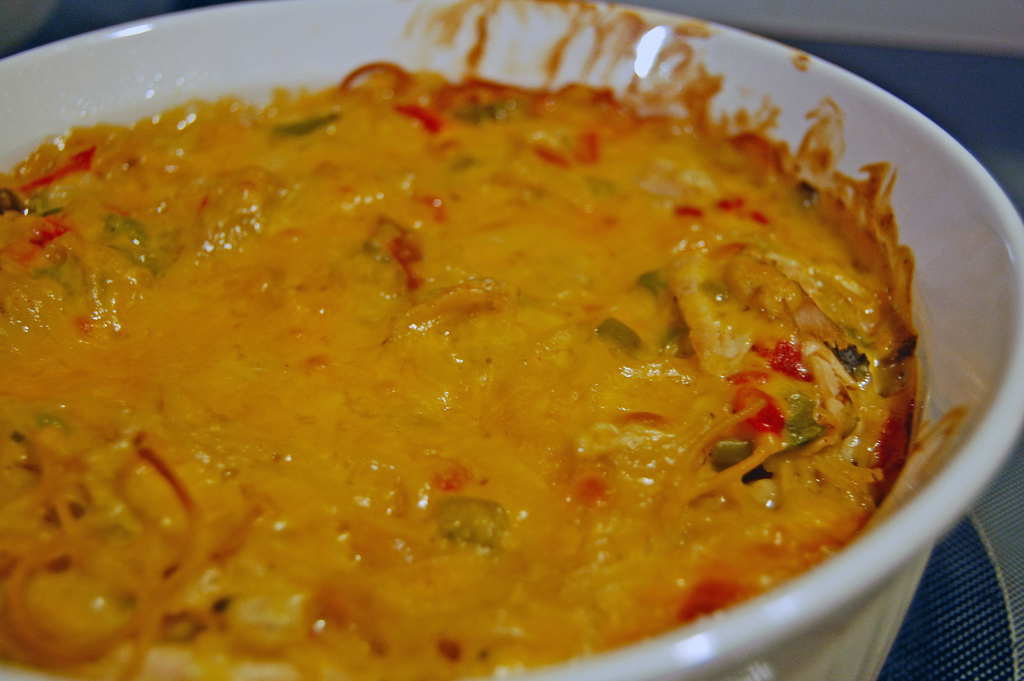plain spaghetti: (65, 137, 778, 550)
